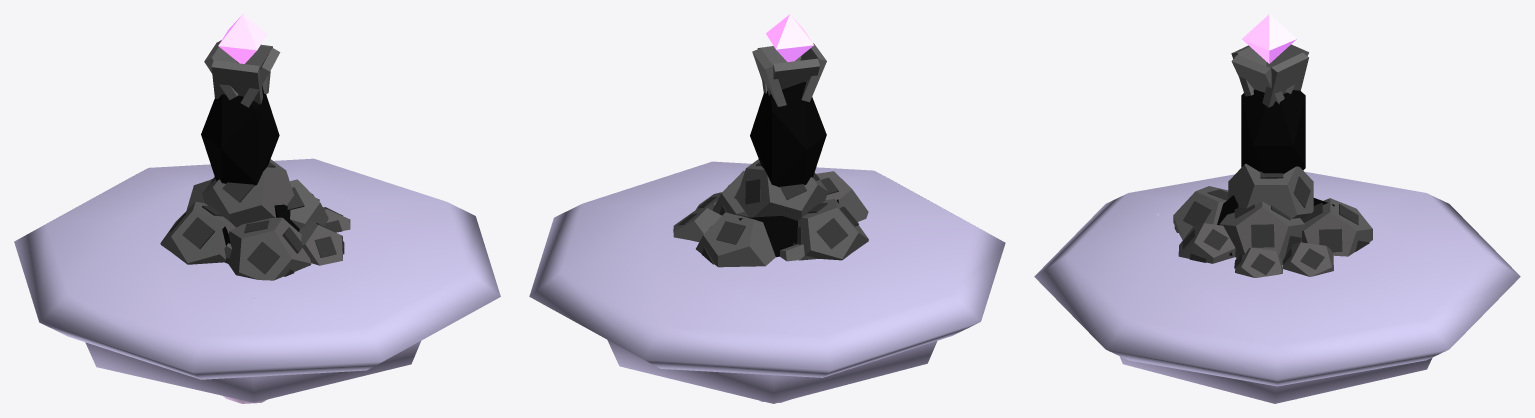
3 renders of one model, left to right at view 1: azimuth 30°, elevation 25°; view 2: azimuth 150°, elevation 25°; view 3: azimuth 270°, elevation 25°, orthographic. The views are drawn at different scales.
Parts seen in each view (by area): view 1: Sphere, Dodecahedron (×5), Torus, Icosahedron, Box (×6), Octahedron; view 2: Sphere, Dodecahedron (×6), Torus, Icosahedron, Box (×5), Octahedron, Tetrahedron; view 3: Sphere, Dodecahedron (×7), Icosahedron, Box (×6), Torus, Octahedron.
Part boxes in pixels (x1,y1,x2,y2): Sphere: (14, 158, 500, 379); Dodecahedron (×5): (160, 159, 343, 280); Torus: (85, 297, 420, 402); Icosahedron: (201, 85, 279, 185); Box (×6): (182, 40, 280, 274); Octahedron: (218, 14, 267, 63); Sphere: (529, 161, 1005, 377); Dodecahedron (×6): (673, 159, 868, 267); Torus: (607, 209, 937, 403); Icosahedron: (750, 82, 826, 187); Box (×5): (716, 43, 848, 248); Octahedron: (766, 14, 813, 61); Tetrahedron: (738, 214, 806, 257); Sphere: (1034, 171, 1520, 386); Dodecahedron (×7): (1173, 164, 1372, 277); Icosahedron: (1241, 89, 1305, 173); Box (×6): (1183, 45, 1342, 252); Torus: (1119, 213, 1432, 403); Octahedron: (1242, 14, 1296, 63).
Bounding box in the file's own units: 542 × 465 × 542.
